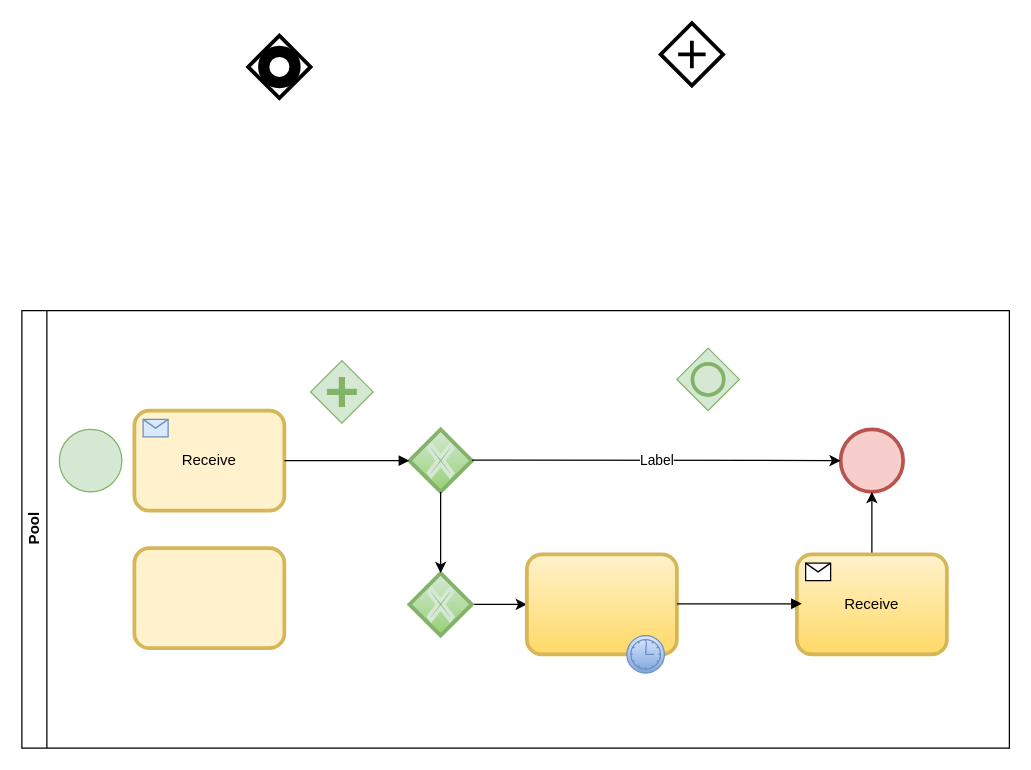
This 1031x770 diagram has some shape labels left out. The centre of each missing label's shape, as x and y in pixels:
"Process" goes at point (601, 604).
"Task" goes at point (209, 597).
